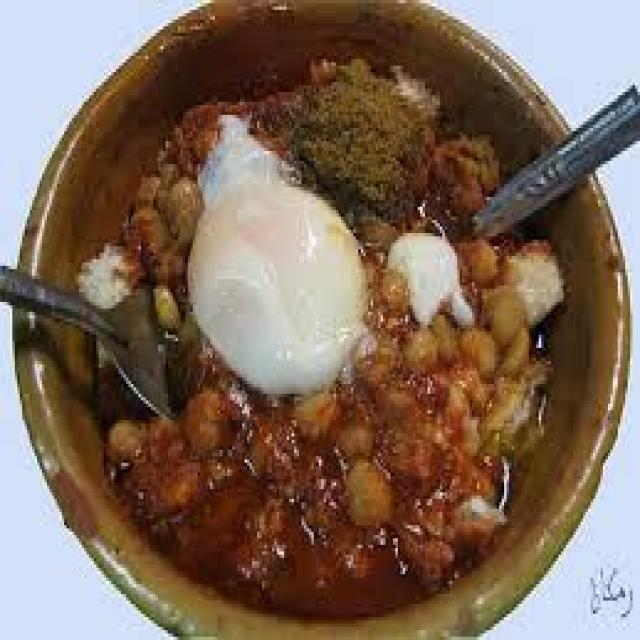Lablabi: (80, 24, 624, 537)
